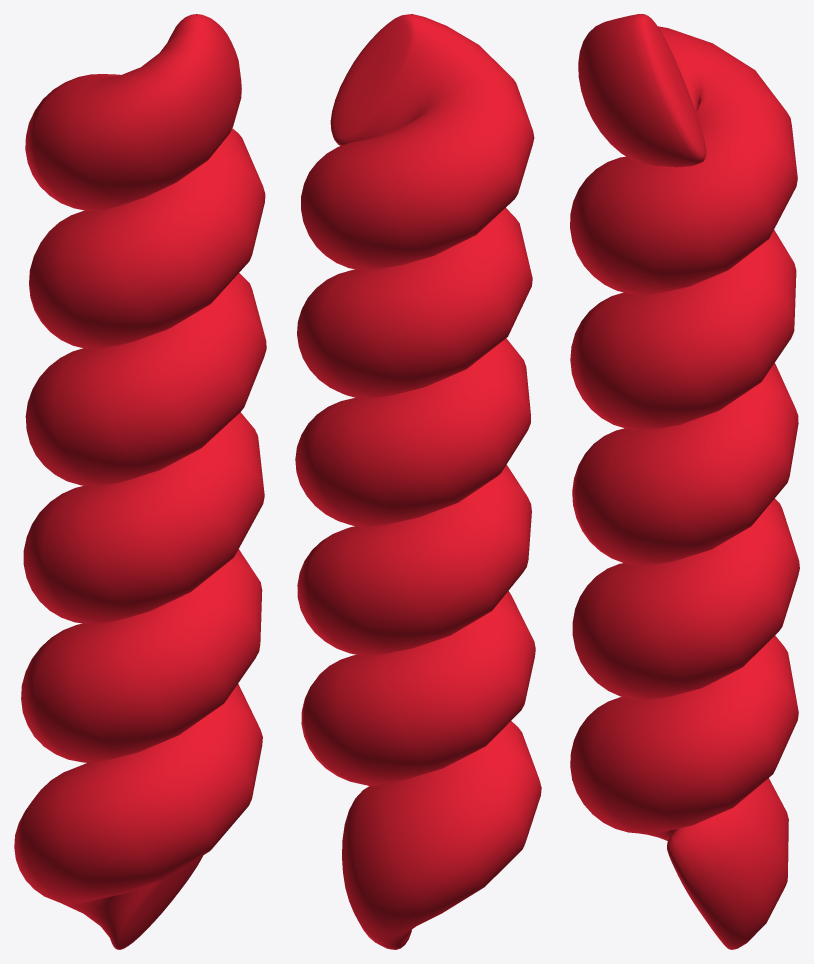
The model's file is SWIRL_CANDY.fbx.
3 renders of one model, left to right at view 1: azimuth 30°, elevation 25°; view 2: azimuth 150°, elevation 25°; view 3: azimuth 270°, elevation 25°, orthographic. The views are drawn at different scales.
Visible parts, largest first — view 1: LollipopCandy; view 2: LollipopCandy; view 3: LollipopCandy.
Boxes of the visible parts, left/top/right/bottom form: LollipopCandy: left=14, top=14, right=266, bottom=949; LollipopCandy: left=295, top=14, right=541, bottom=949; LollipopCandy: left=570, top=14, right=799, bottom=949.
Bounding box in the file's own units: 2.08 × 8.31 × 1.83.
